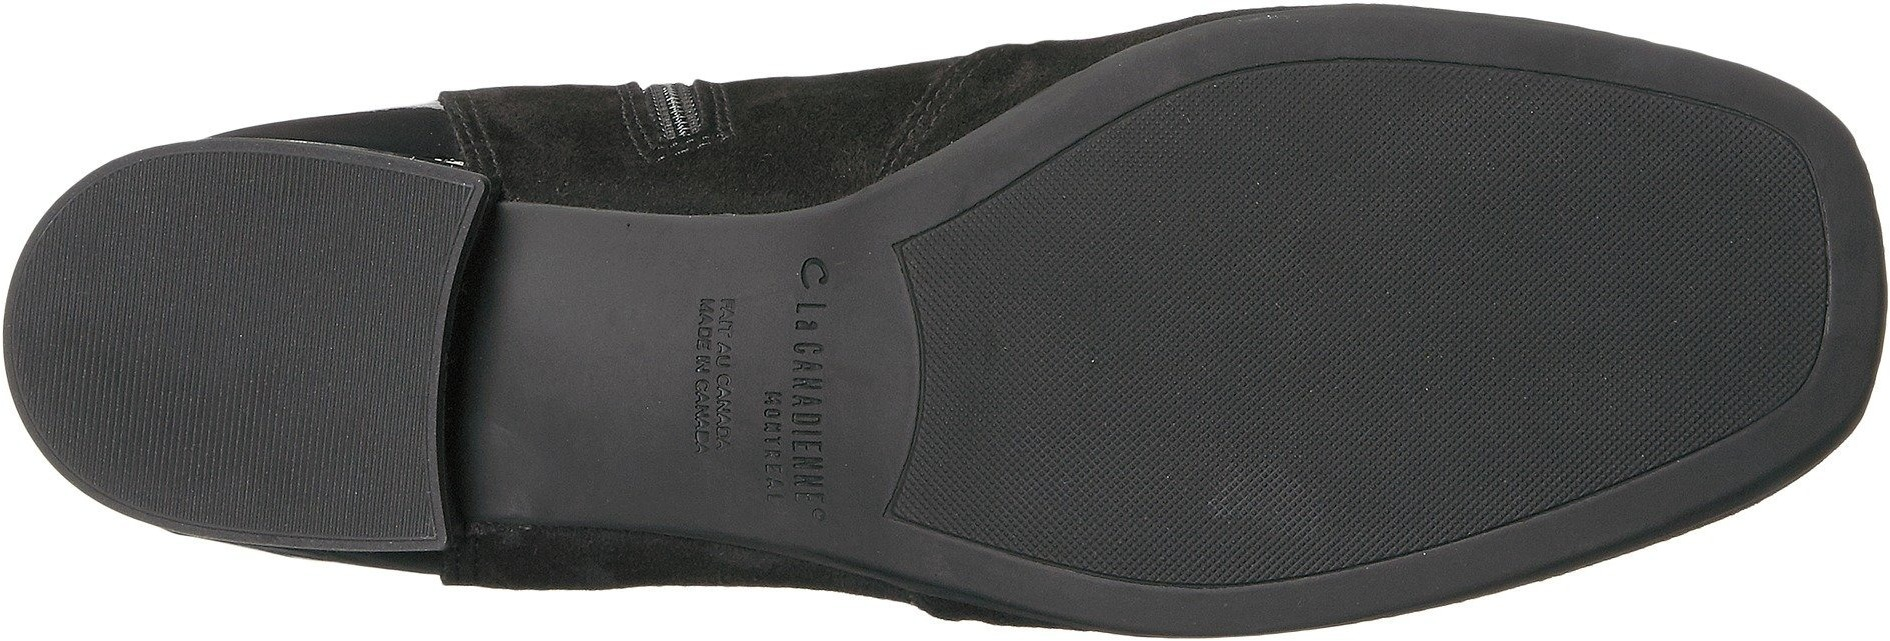exclude: (434, 195, 665, 528)
other: (72, 170, 441, 506), (1188, 133, 1490, 435), (1487, 131, 1761, 421), (938, 252, 1188, 521), (1192, 435, 1342, 568)
text: (670, 288, 855, 534)
